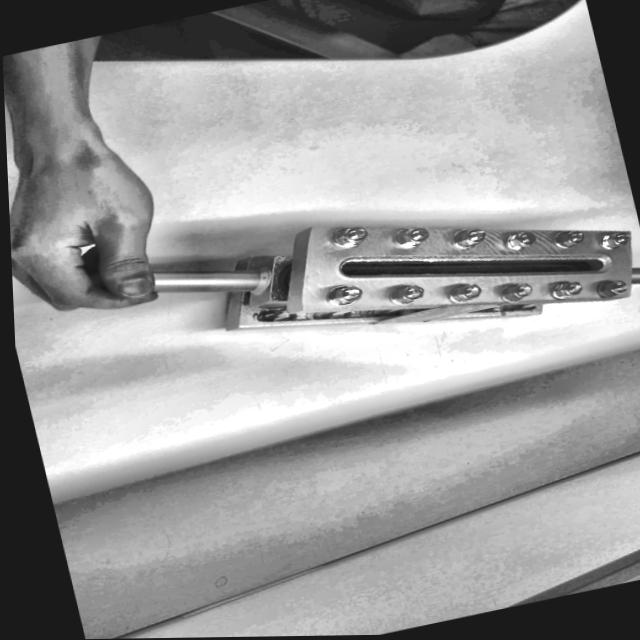ShuiWeiQi_12: (145, 146, 640, 403)
